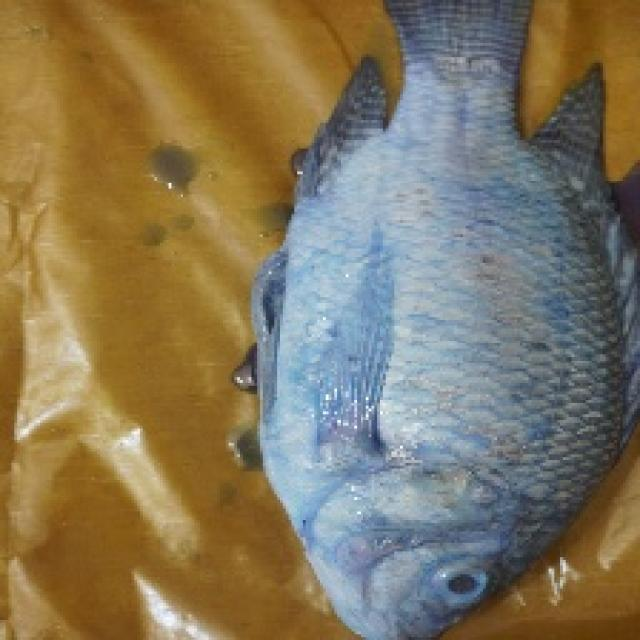Non-Fresh: (268, 157, 640, 640), (428, 550, 498, 615)
